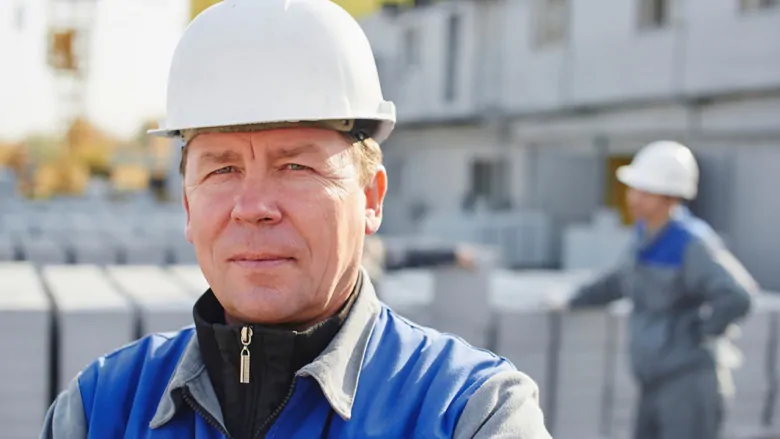hard hat: (147, 1, 398, 145), (615, 139, 700, 202)
